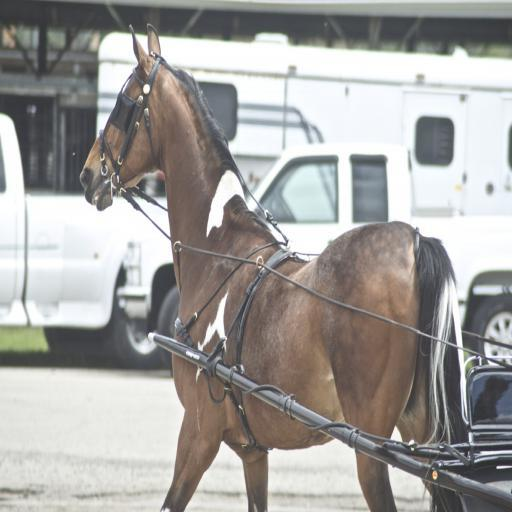Horse: (80, 20, 460, 512)
